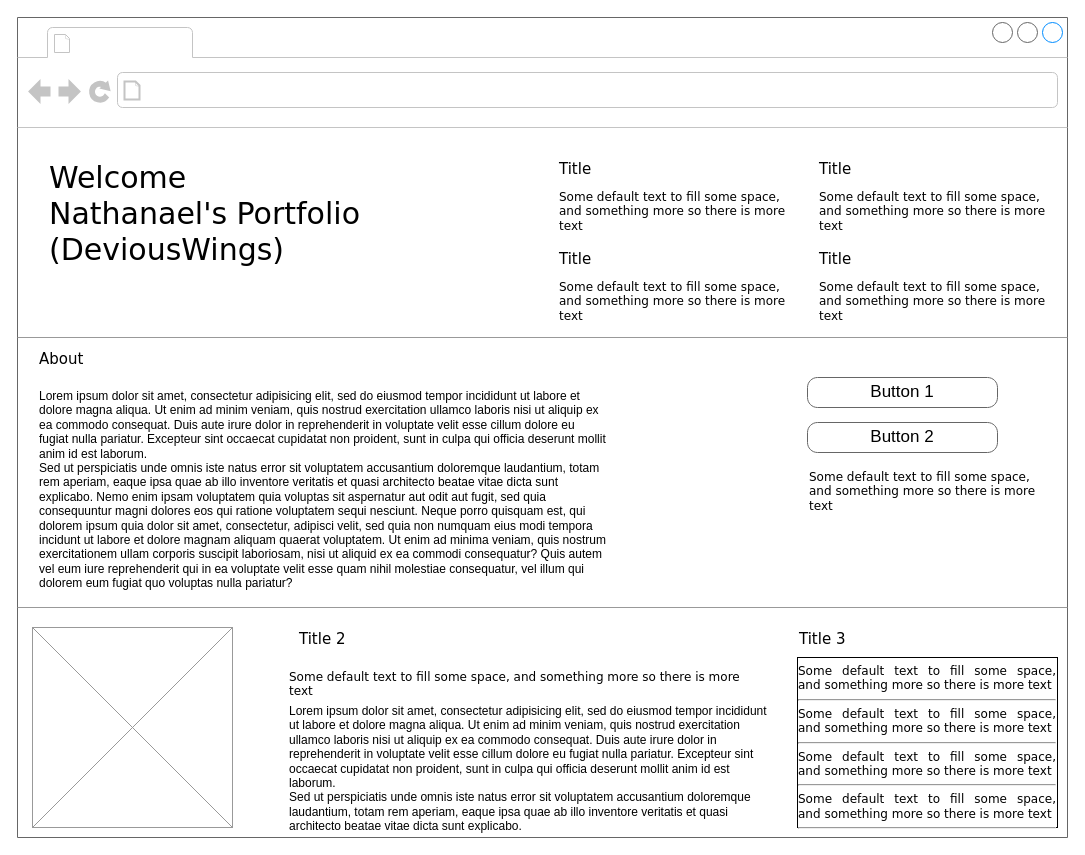
The diagram is 1085 pixels wide and 855 high, and some of its shapes have lost their labels. Here are the shapes that lost their labels. From the top down, the centre of each, then its label:
At pixel 132 42: "Home".
At pixel 272 90: "https://www.default.com".
